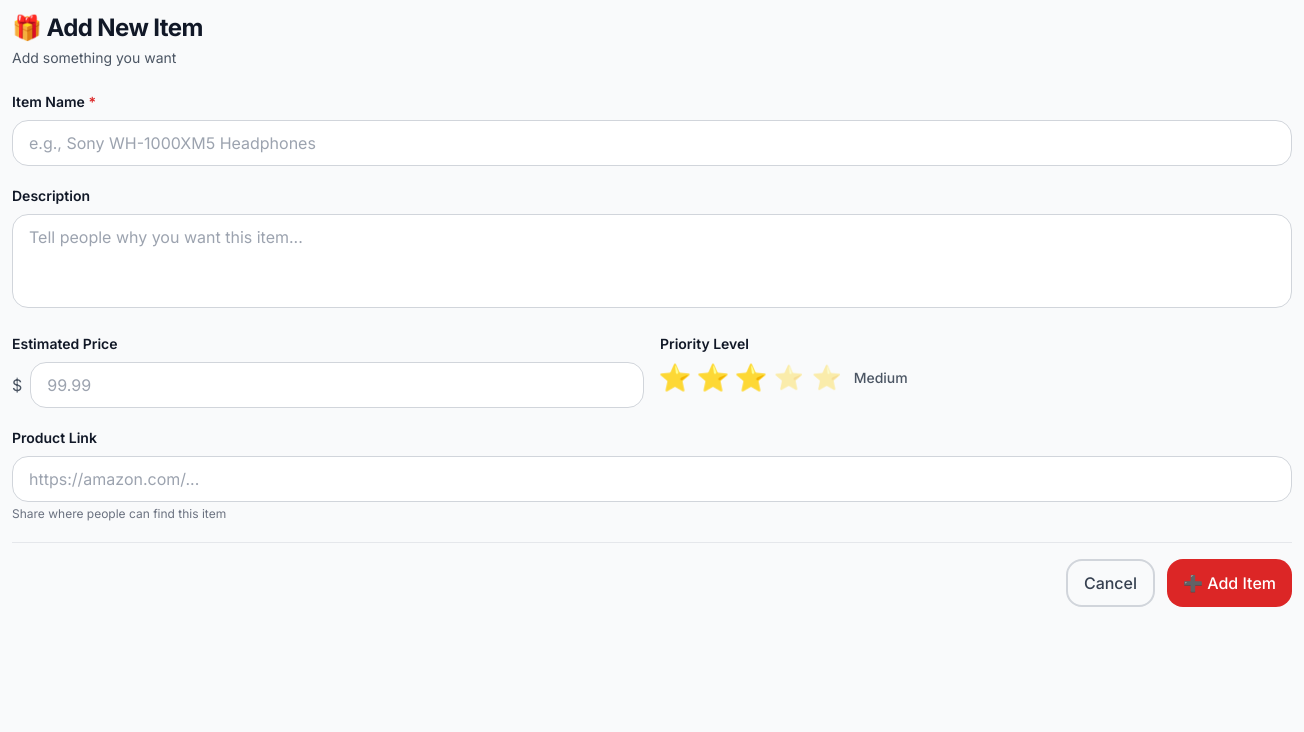
it: ItemForm › should display priority level text when rank is selected
The image size is (1304, 732).
Note: Click first star (Low)
Click the 1st button titled "Priority level" at [675, 378], box [658,365,691,391]
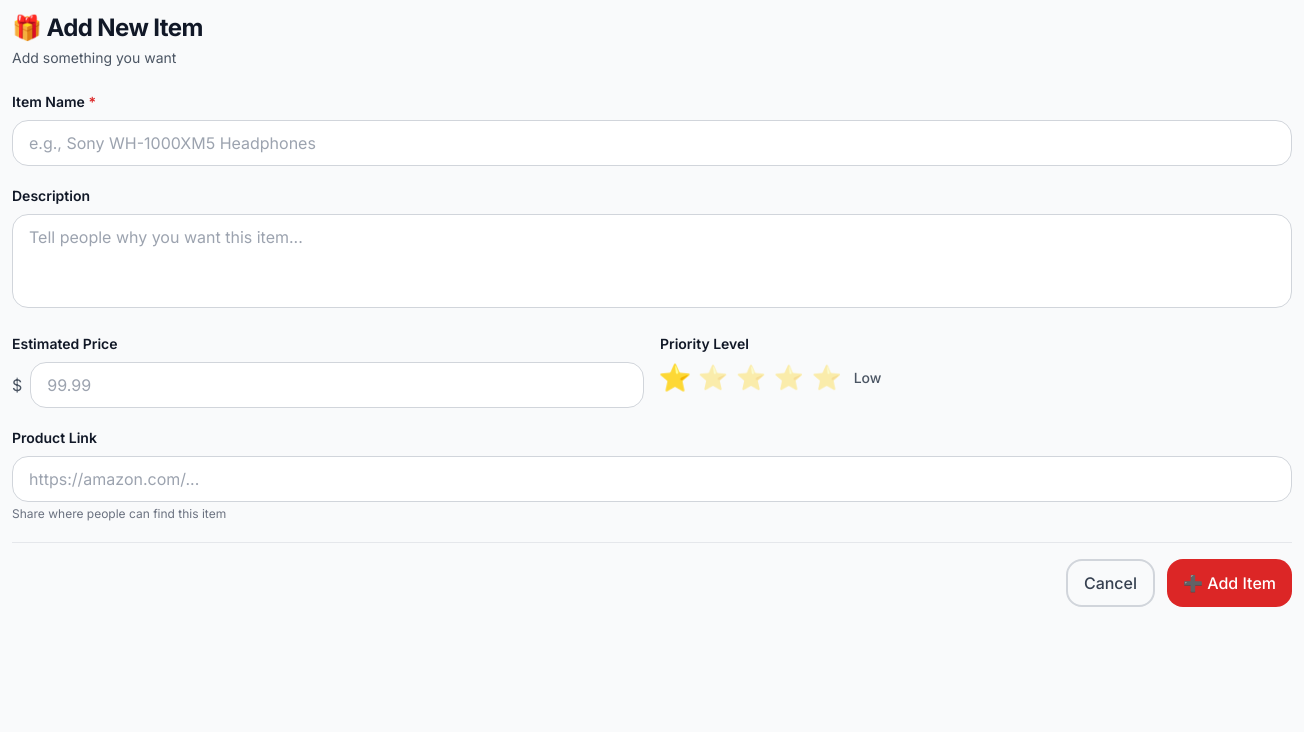
Now the text "Low" is shown, box [854,368,882,388]
Note: Click third star (Medium)
Click the 3rd button titled "Priority level" at [751, 378], box [736,366,766,390]
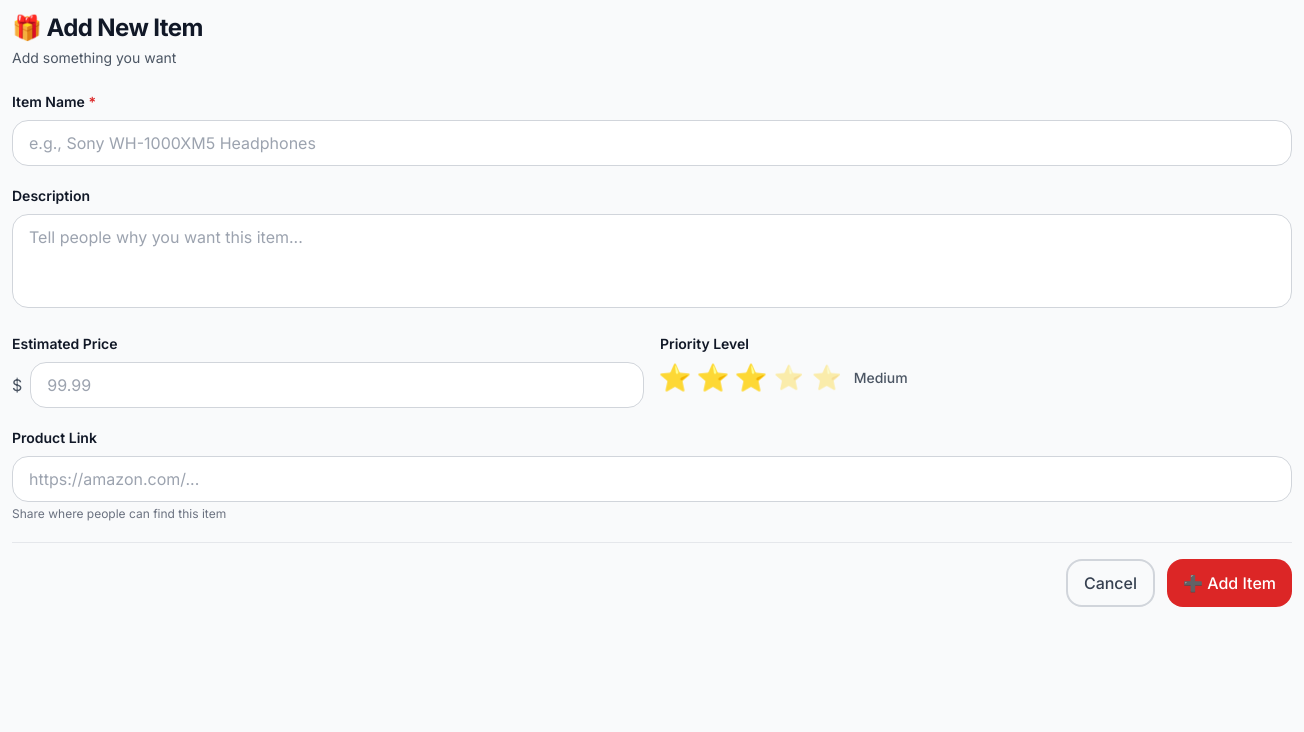
Expected: the text "Medium" is shown, [854,368,908,388]
Note: Click fifth star (Very High)
Click the 5th button titled "Priority level" at [827, 378], box [812,366,842,390]
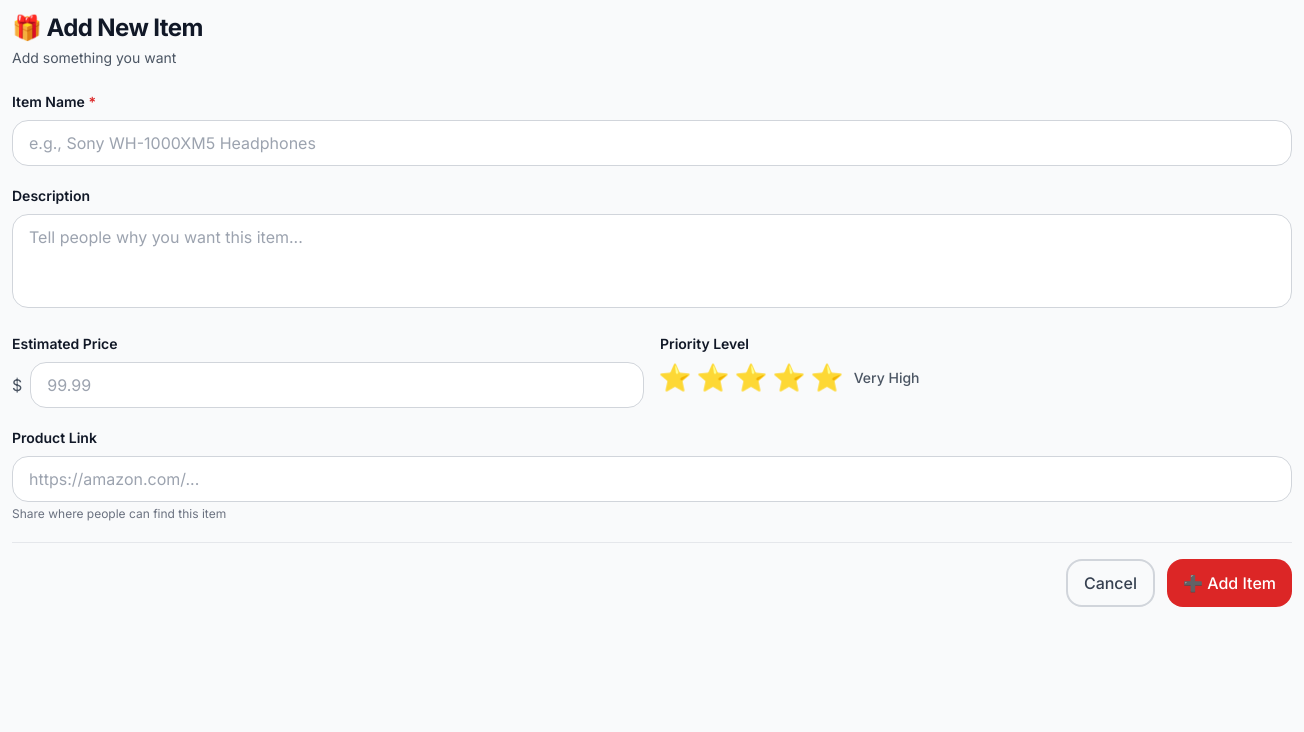
Now the text "Very High" is shown, box [854,368,920,388]
